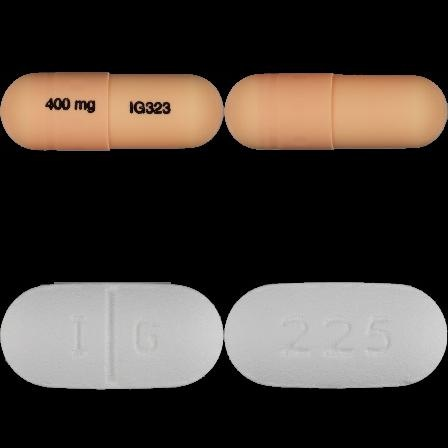31722-223: (0, 0, 224, 224)
